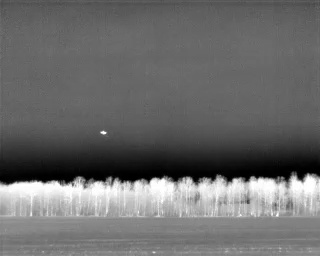DRONE: (97, 126, 111, 139)
